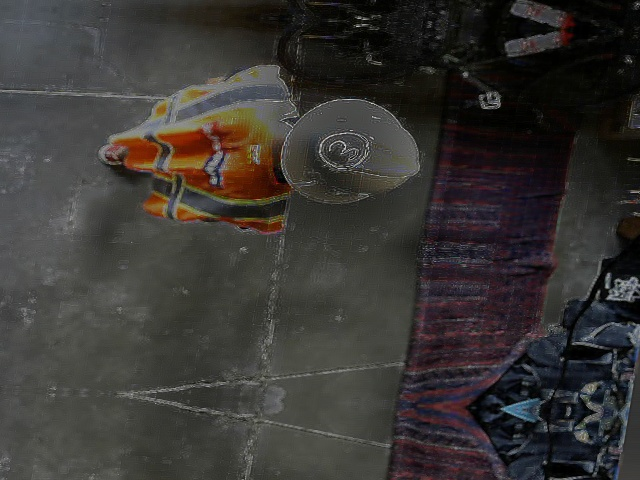three: (314, 130, 372, 169)
